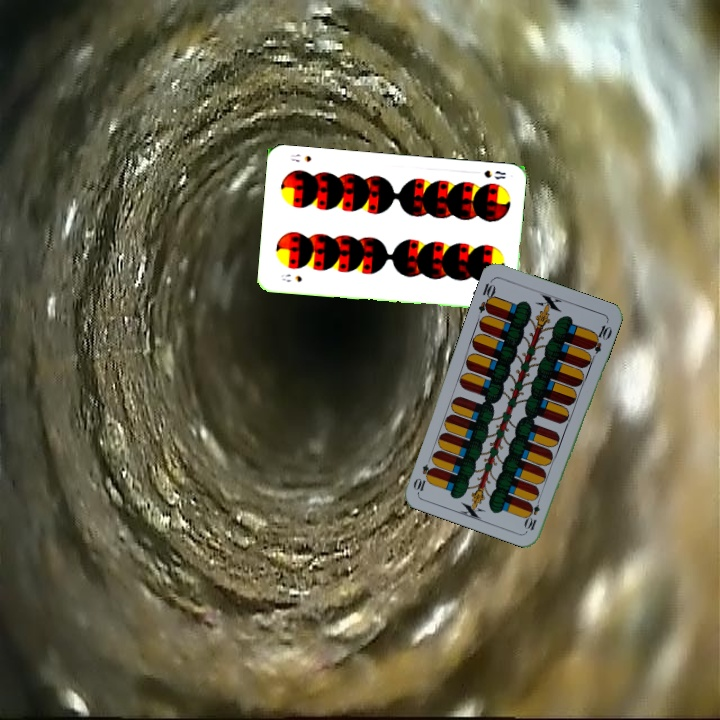E10: (474, 276, 498, 316), (522, 493, 543, 533)
S8: (480, 166, 508, 182), (277, 270, 304, 285)
